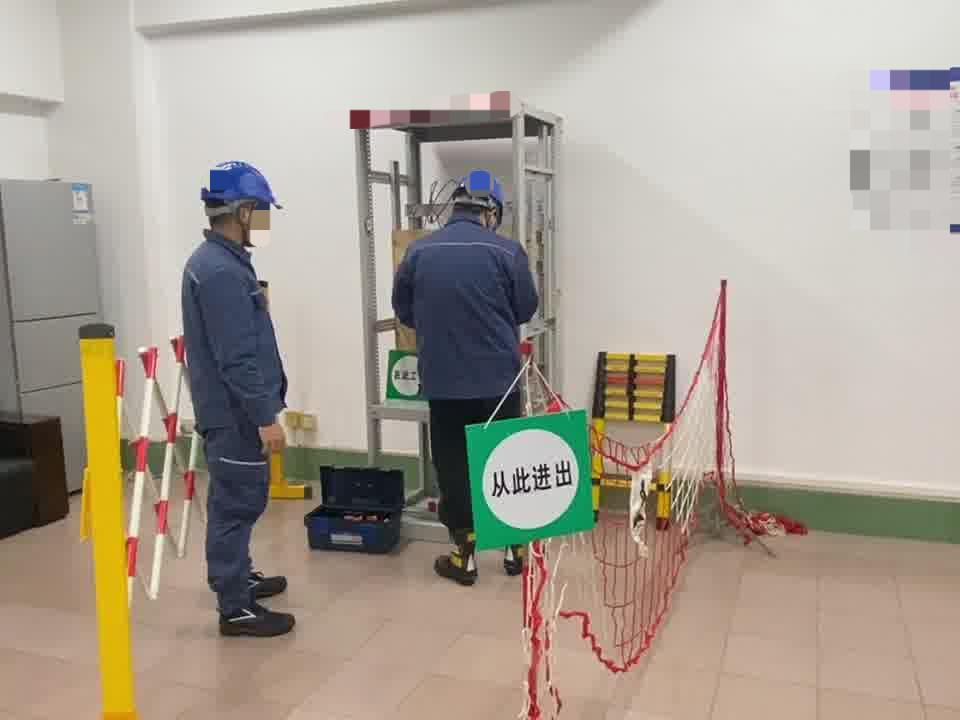halt: (201, 162, 283, 250), (453, 174, 511, 230)
inear: (232, 199, 261, 238)
